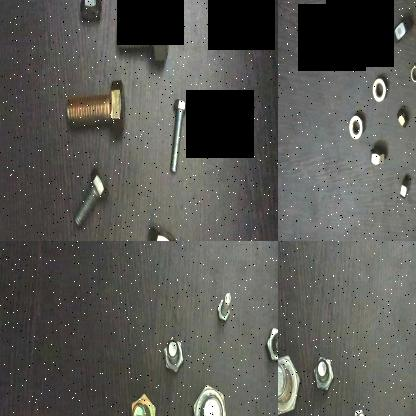Bolts: (54, 79, 136, 133), (109, 0, 177, 64), (68, 162, 113, 236), (164, 79, 190, 181), (278, 348, 303, 416), (190, 377, 230, 416), (160, 330, 190, 377), (312, 346, 336, 396), (137, 218, 185, 241), (126, 384, 157, 416), (212, 284, 235, 324), (263, 316, 278, 370), (346, 399, 368, 416)
NUTS: (390, 13, 414, 51), (354, 22, 377, 56), (346, 112, 365, 142), (368, 142, 386, 172), (398, 172, 412, 208), (370, 77, 388, 103), (394, 104, 410, 130), (410, 60, 416, 86)
